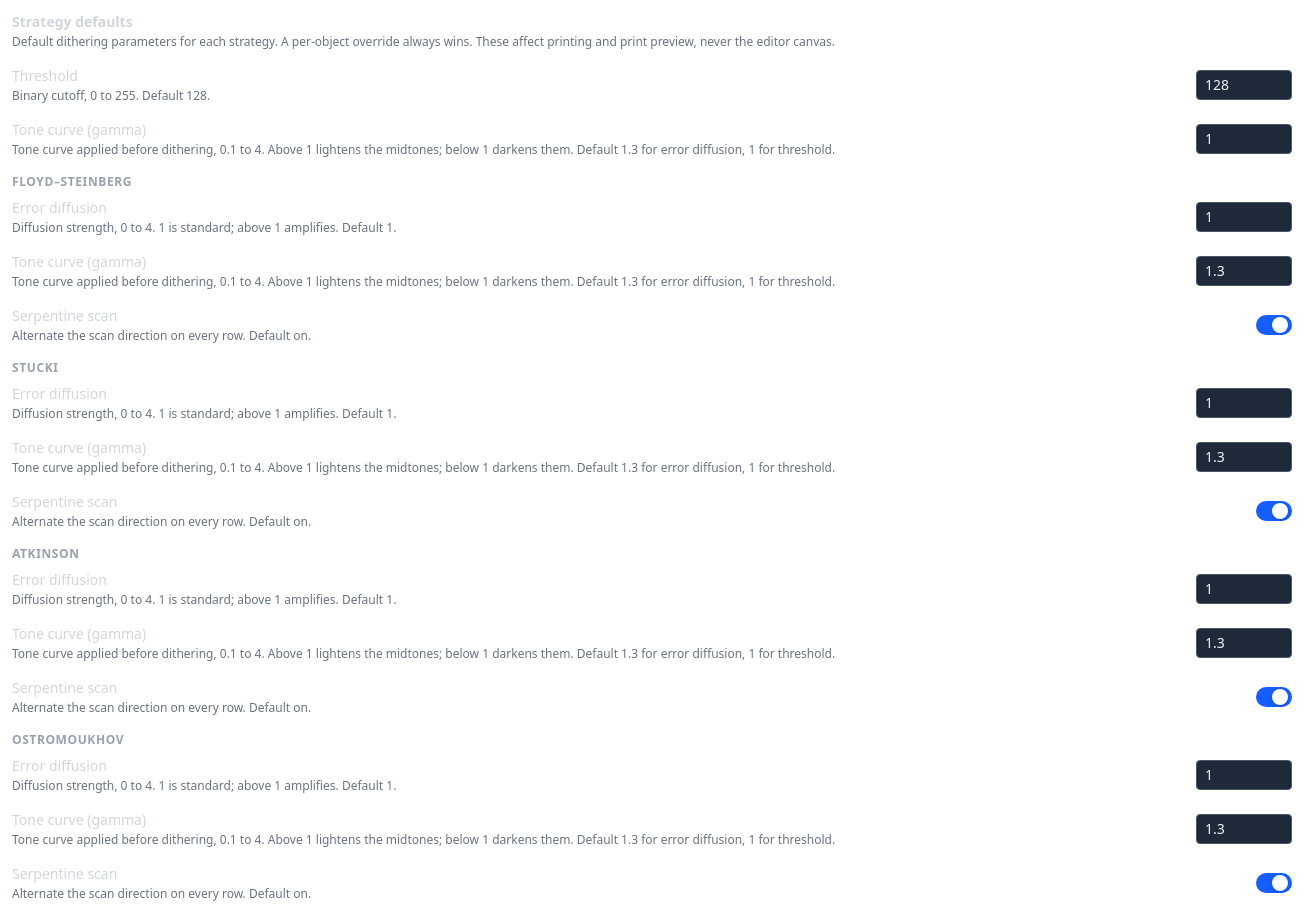
it: RenderingSection — per-strategy defaults › clamps a committed threshold to [0,255] and reflects the clamped value
Replace the text in the number field labelled "Threshold Binary cutoff, 0 to 255. Default 128." with "300" at (1244, 85), box [1196,70,1292,100]
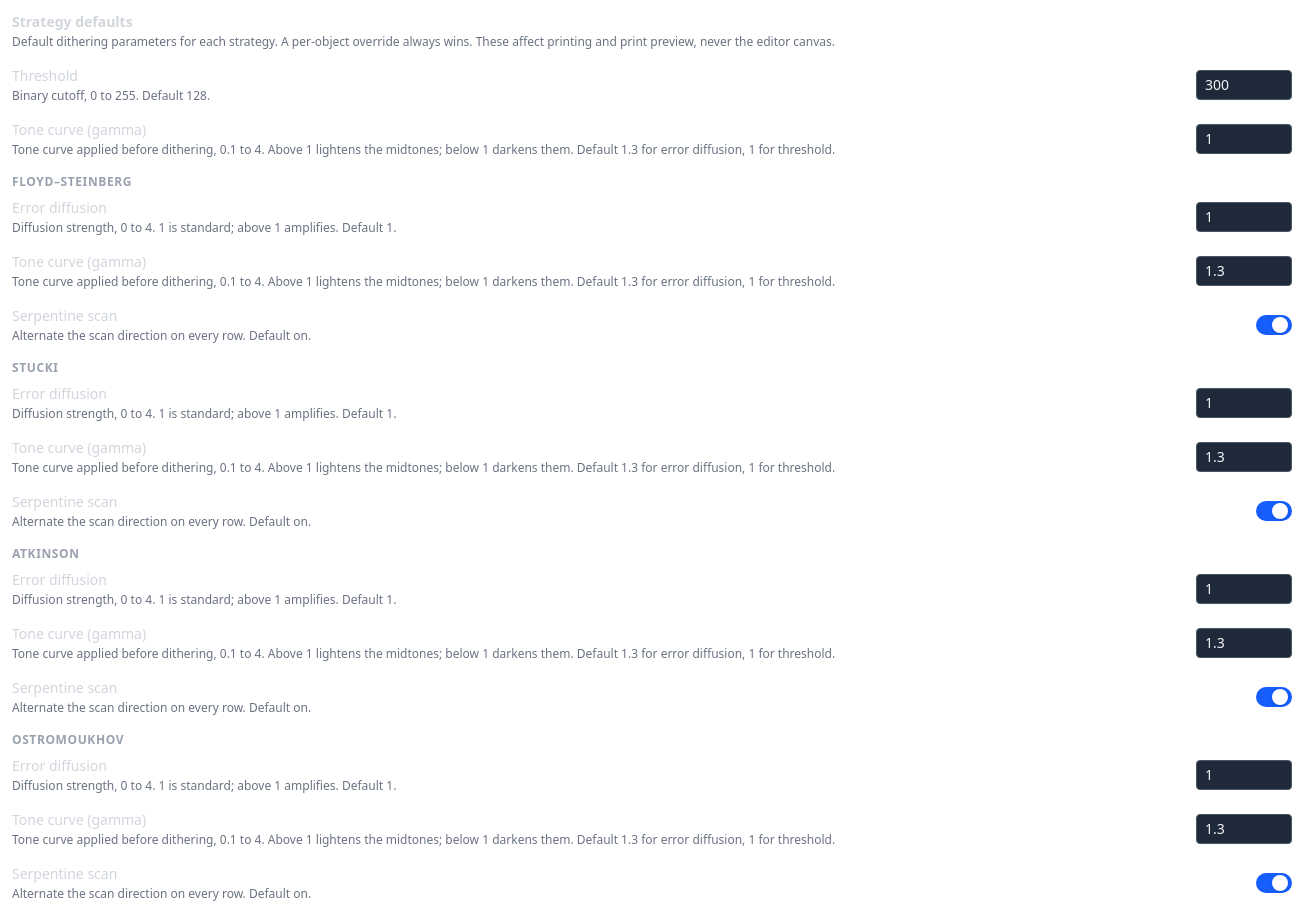
Leave the number field labelled "Threshold Binary cutoff, 0 to 255. Default 128.", box [1196,70,1292,100]
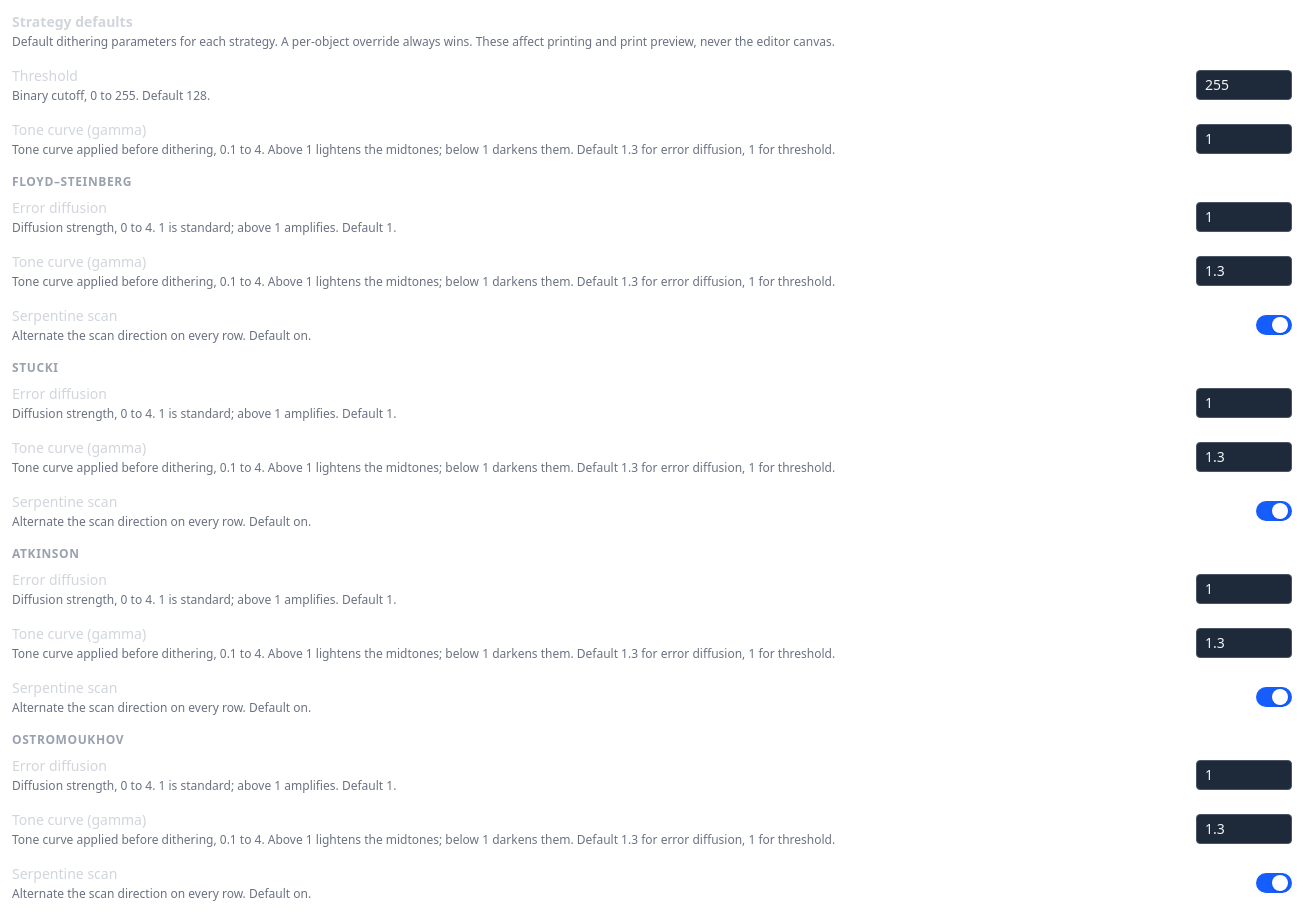
Check: the number field labelled "Threshold Binary cutoff, 0 to 255. Default 128." holds "255", box [1196,70,1292,100]
